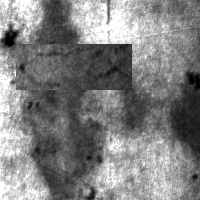crazing: (16, 44, 132, 90)
inclusion: (1, 21, 21, 50)
patches: (21, 1, 99, 198), (158, 68, 200, 158), (109, 64, 154, 140)
